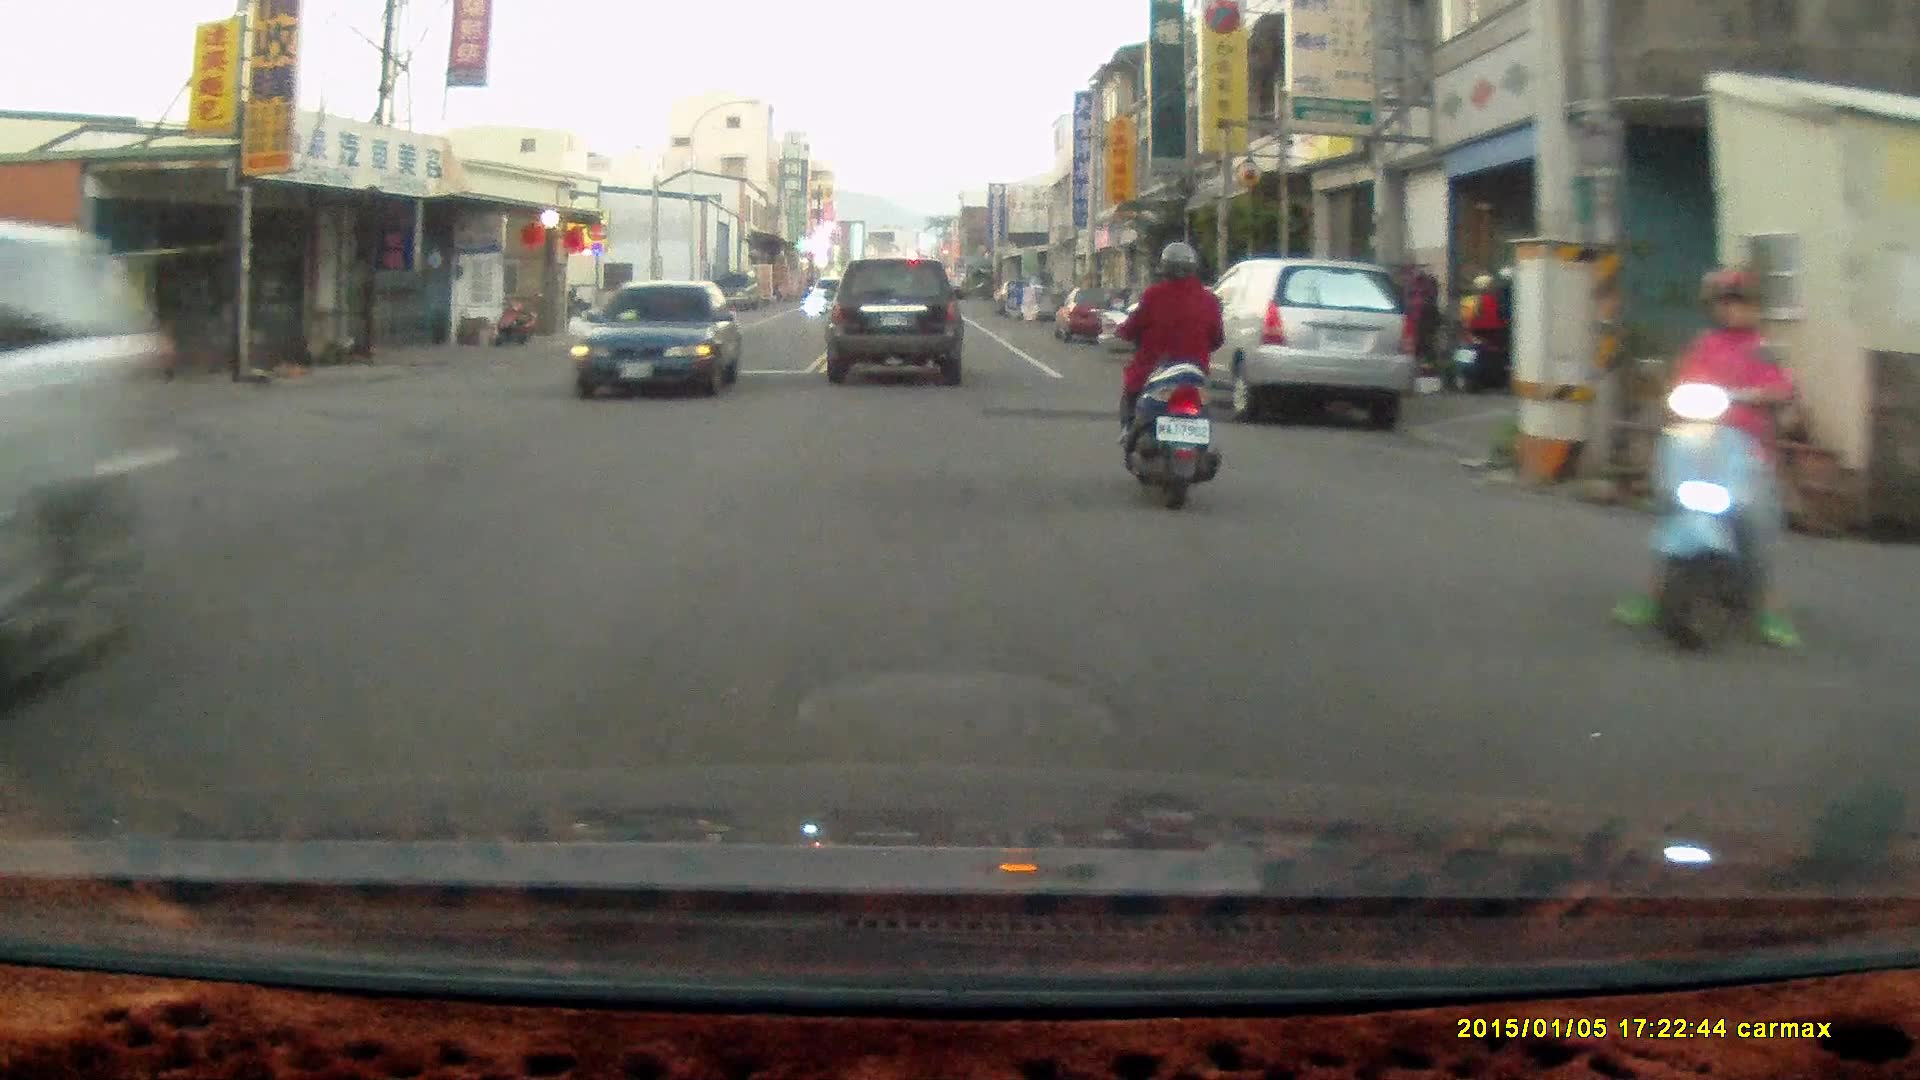rider: (1615, 268, 1812, 662), (1113, 238, 1223, 511), (1457, 264, 1518, 392)
vehicle: (1, 215, 180, 712), (1175, 260, 1413, 429), (575, 279, 744, 405), (825, 258, 967, 390), (1053, 287, 1131, 344)
